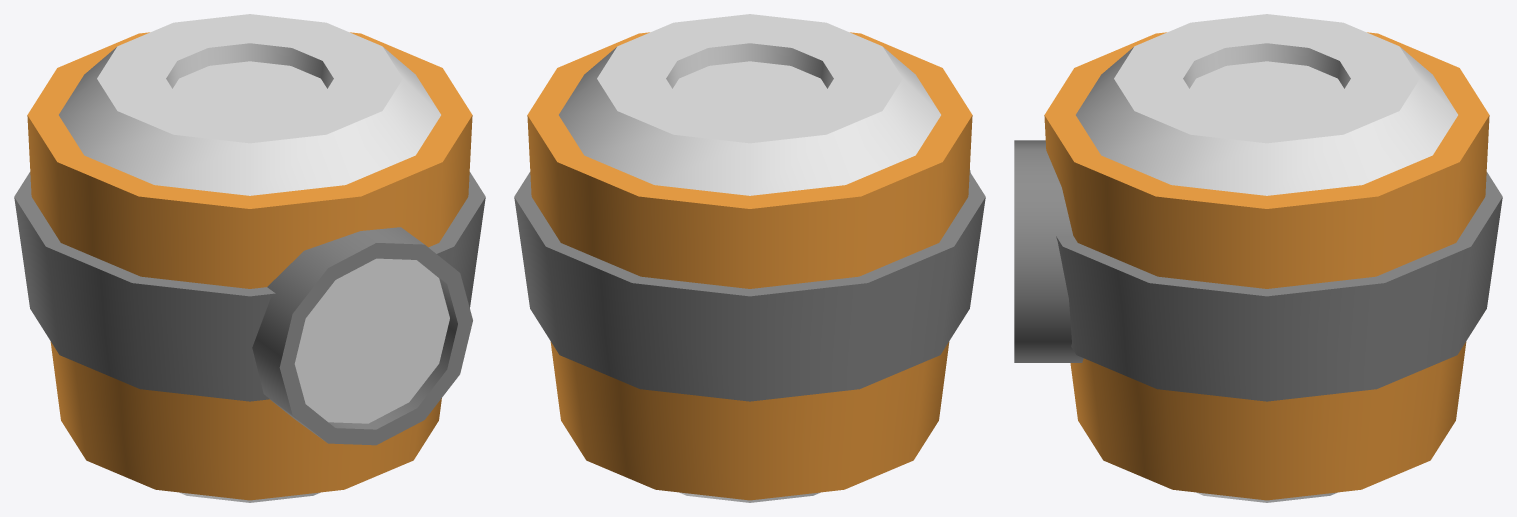
File: Bot_1_Top.fbx
3 views of the same model, side by side, from view 1: azimuth 30°, elevation 25°; view 2: azimuth 150°, elevation 25°; view 3: azimuth 270°, elevation 25° (orthographic).
Visible parts, largest first — view 1: bot1; view 2: bot1; view 3: bot1.
Boxes of the visible parts, x1,y1,x2,y2 form: bot1: (14, 14, 485, 502); bot1: (514, 14, 985, 502); bot1: (1014, 14, 1502, 502).
Size of the model in its own units: 29.17 by 26.11 by 30.22.
